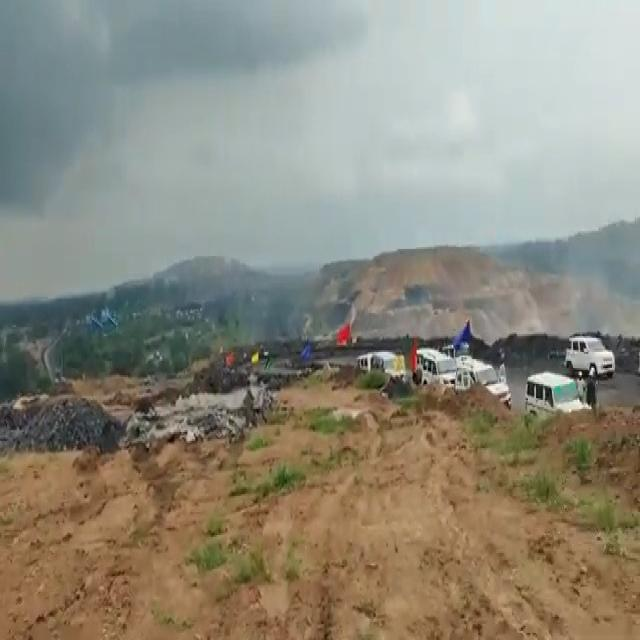light_vehicle: (526, 375, 579, 411), (469, 356, 508, 400), (571, 336, 611, 367), (420, 356, 453, 387), (378, 350, 407, 376)
